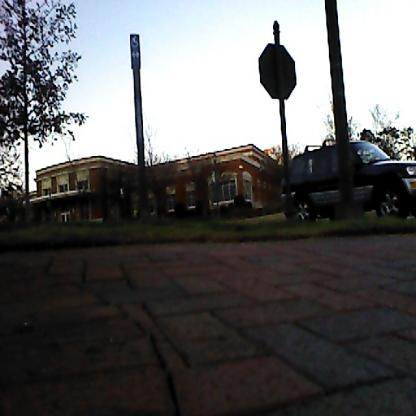Edge: (1, 222, 415, 270)
Sidewalk: (0, 234, 416, 416)
